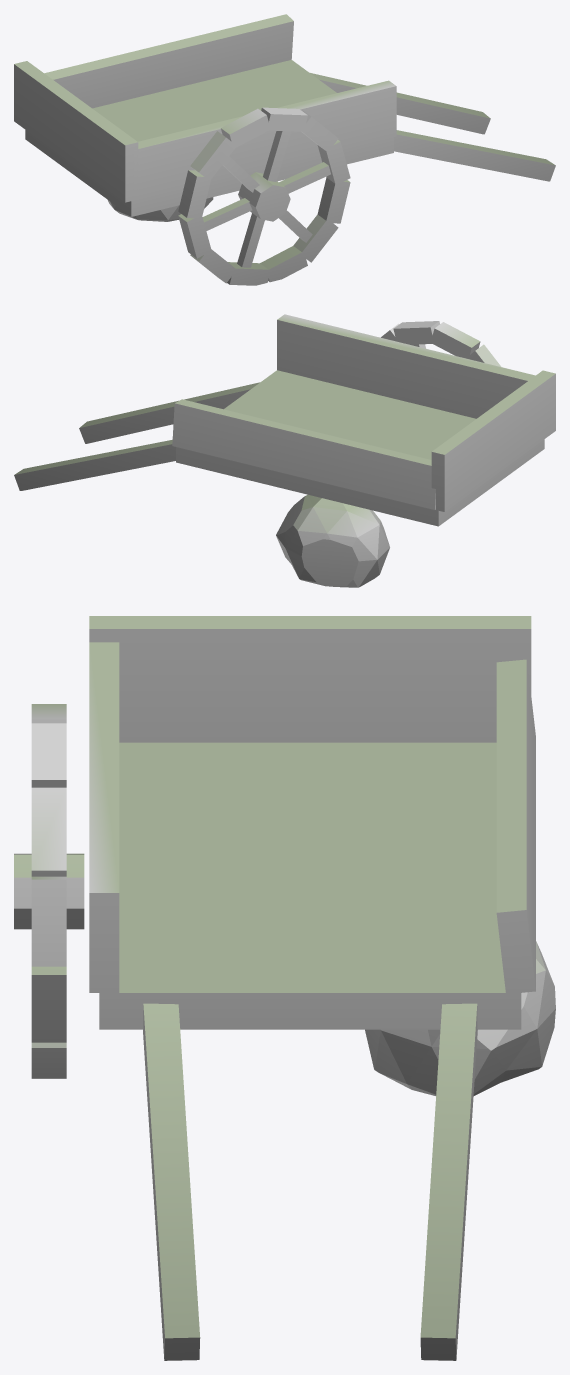
File: cart.glb
3 renders of one model, top to bottom at view 1: azimuth 30°, elevation 25°; view 2: azimuth 150°, elevation 25°; view 3: azimuth 270°, elevation 25°, orthographic. The views are drawn at different scales.
Parts seen in each view (by area): view 1: cart; view 2: cart; view 3: cart.
Boxes of the visible parts, x1=… form: cart: x1=14, y1=14, x2=555, y2=285; cart: x1=14, y1=314, x2=555, y2=587; cart: x1=14, y1=616, x2=555, y2=1360.
Size of the model in its own units: 2.06 by 0.7338 by 1.08.
